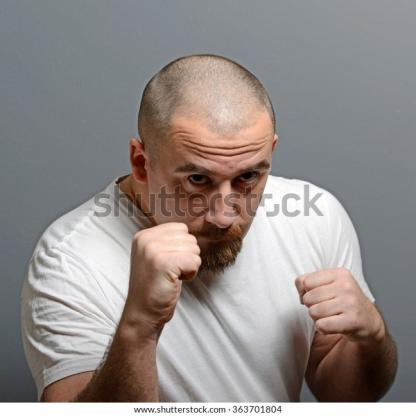fist: (112, 216, 202, 324), (284, 267, 378, 334)
